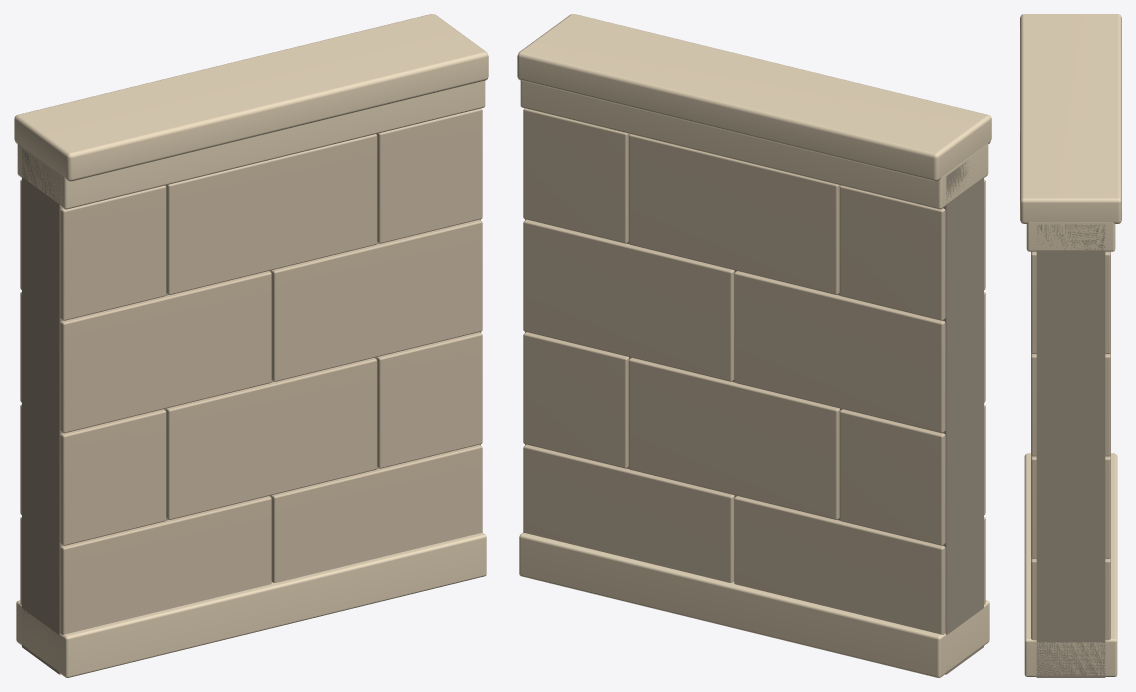
The model's file is GardenWall_2m.fbx.
3 views of the same model, side by side, from view 1: azimuth 30°, elevation 25°; view 2: azimuth 150°, elevation 25°; view 3: azimuth 270°, elevation 25° (orthographic). The views are drawn at different scales.
Visible parts, largest first — view 1: GardenWall_2m.001; view 2: GardenWall_2m.001; view 3: GardenWall_2m.001.
Part boxes in pixels (x1=…): GardenWall_2m.001: x1=14, y1=14, x2=488, y2=677; GardenWall_2m.001: x1=517, y1=14, x2=991, y2=677; GardenWall_2m.001: x1=1020, y1=14, x2=1121, y2=677.
Size of the model in its own units: 2 by 2.39 by 0.46.
